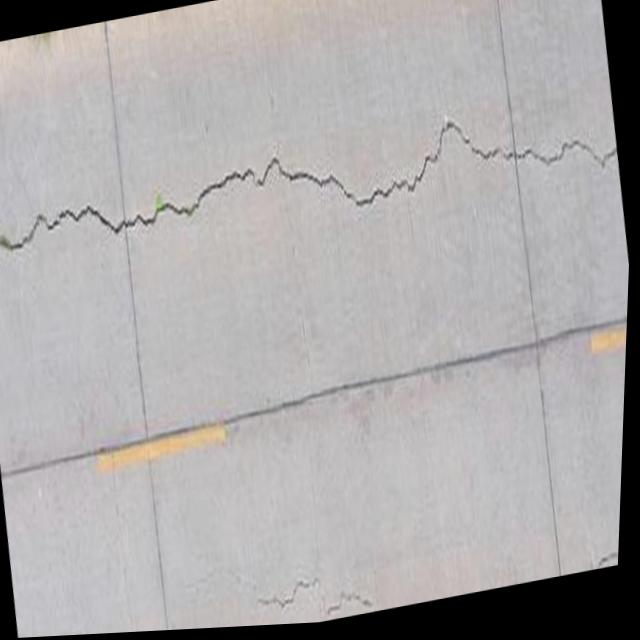Crack: (0, 64, 626, 309)
